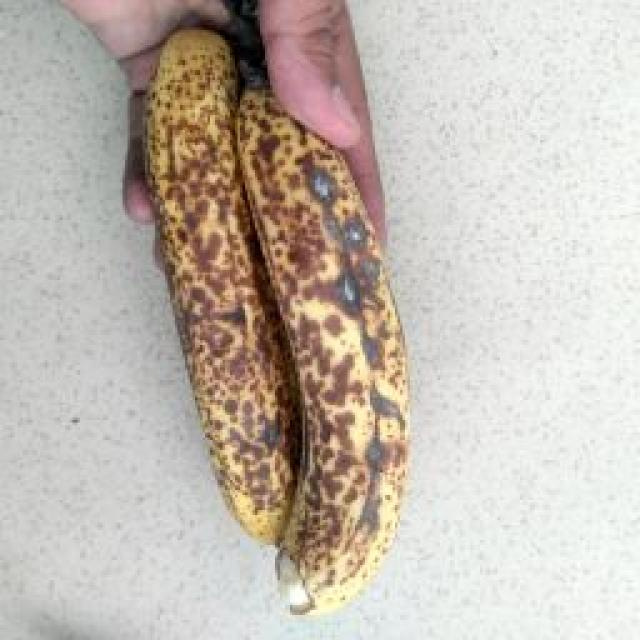banana: (66, 86, 577, 513)
